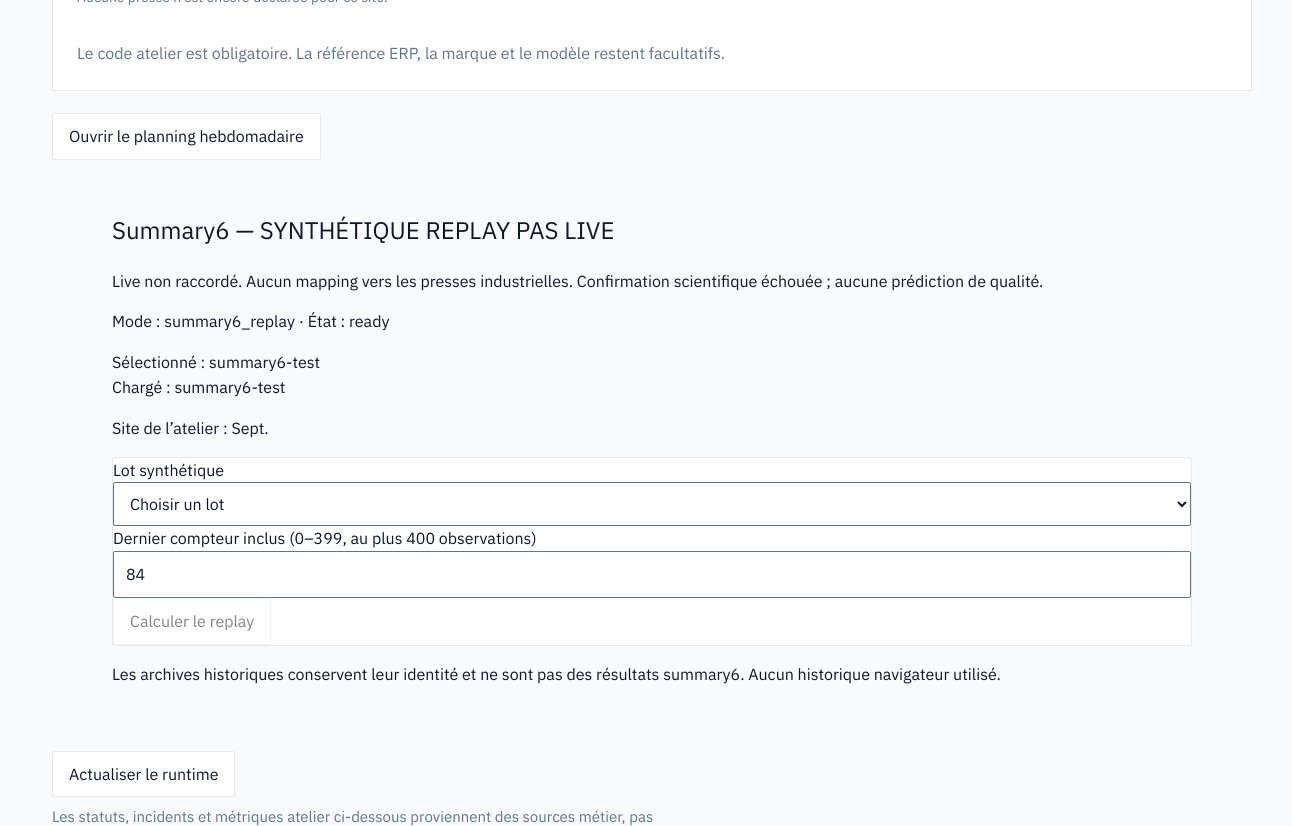
vraie page atelier avec frontière scoring › revalide le site URL et abandonne le lot précédent sans site de repli
(page scrolled)
Select "M1-R1-L15" in the dropdown labelled "Lot synthétique" at (652, 504), box [113,482,1191,526]
(page scrolled)
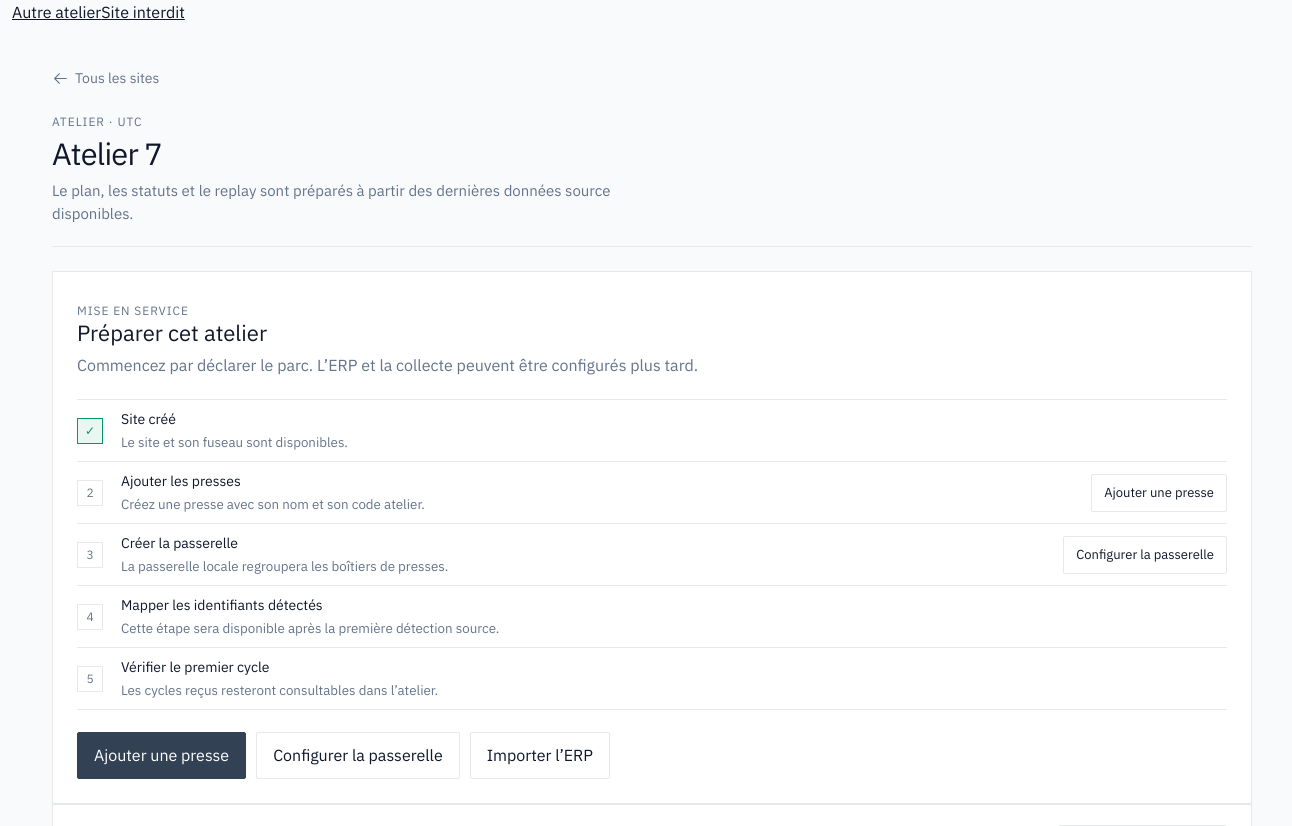
Click the link "Autre atelier" at (57, 12), box [12,2,101,22]
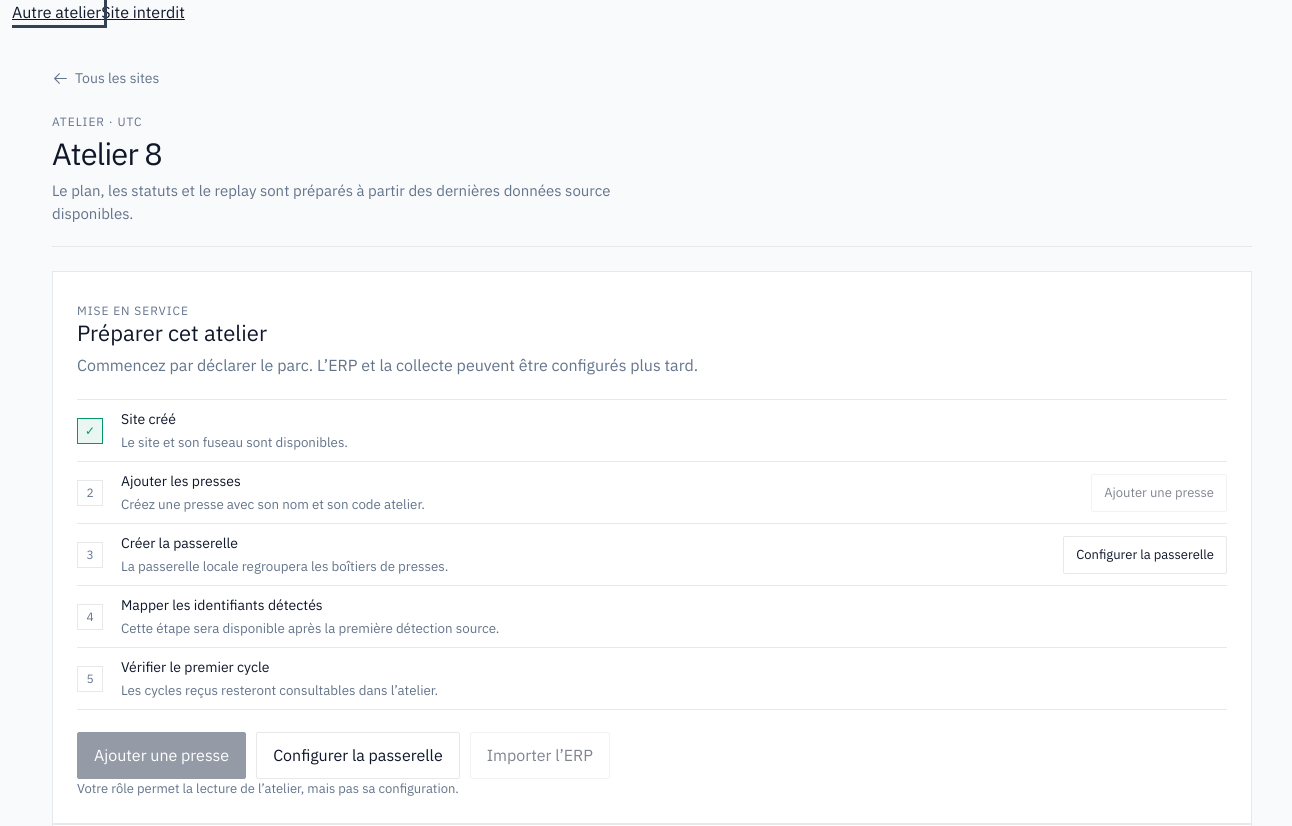
Click the link "Site interdit" at (143, 12), box [101,2,185,22]
(page scrolled)
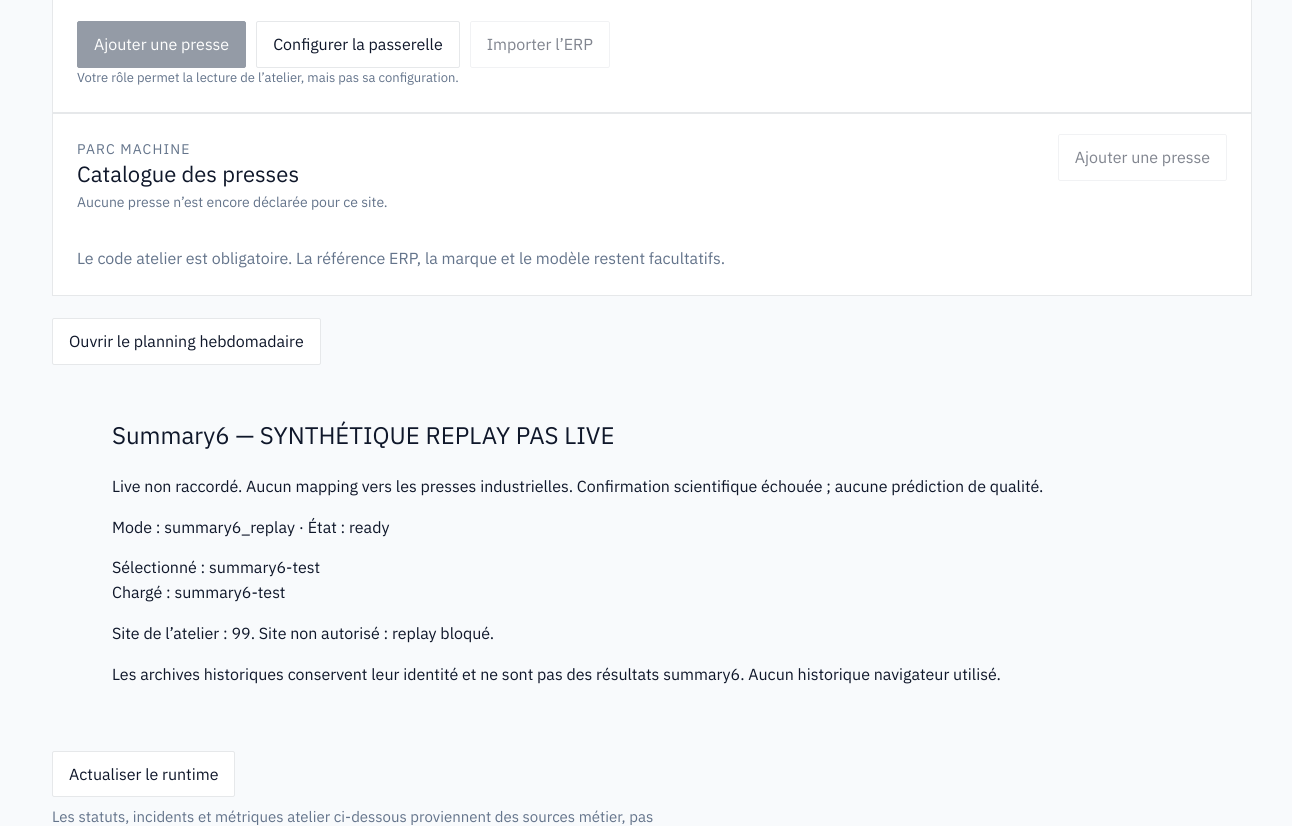
Check: the button "Calculer le replay" is not shown
Check: the text "Site de l’atelier : 99. Site non autorisé : replay bloqué." is shown, box [112,623,494,643]
